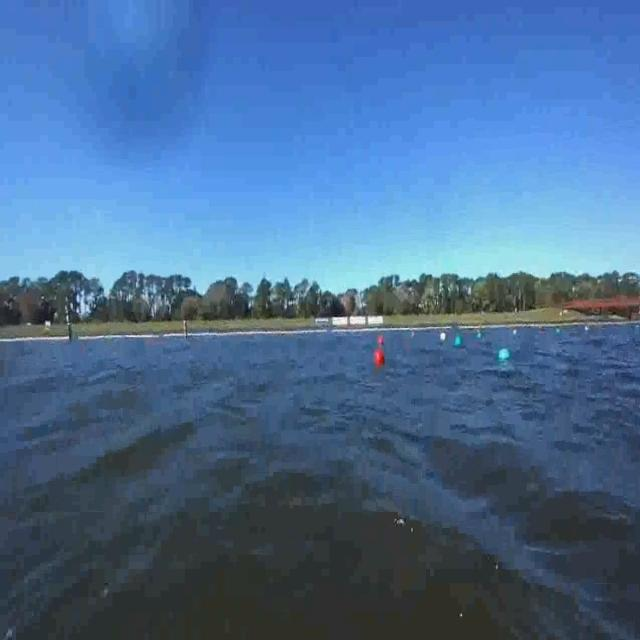green-buoy: (498, 348, 511, 363), (455, 337, 463, 349)
red-buoy: (375, 348, 386, 368)
yellow-buoy: (439, 329, 446, 344)
